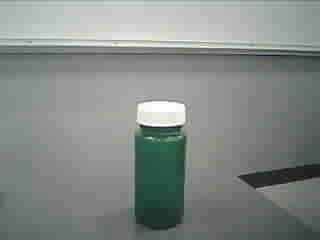Bottle C: (126, 93, 202, 235)
